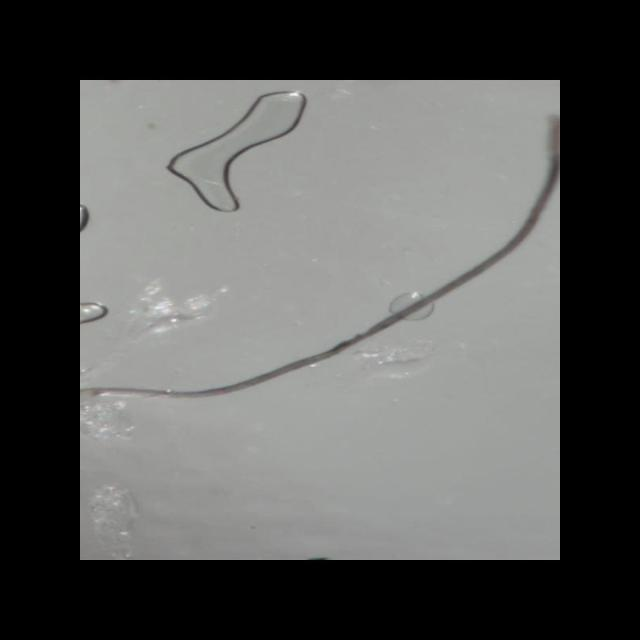Fibre: (80, 112, 560, 404)
